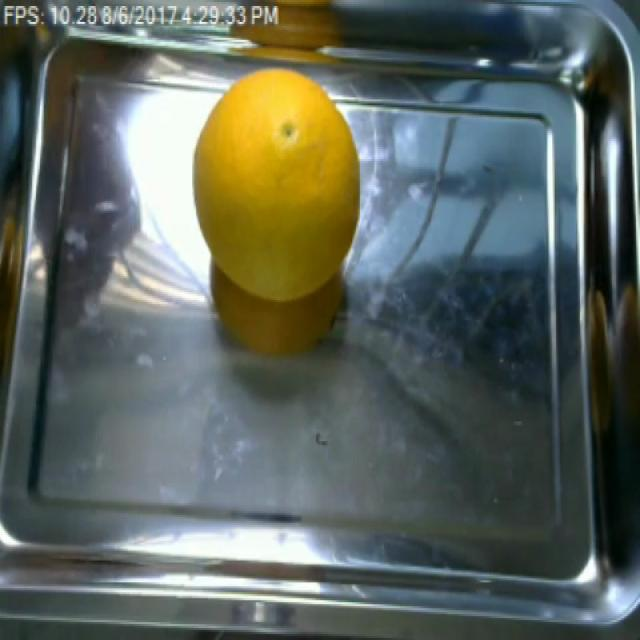Fruit: (182, 53, 366, 360)
